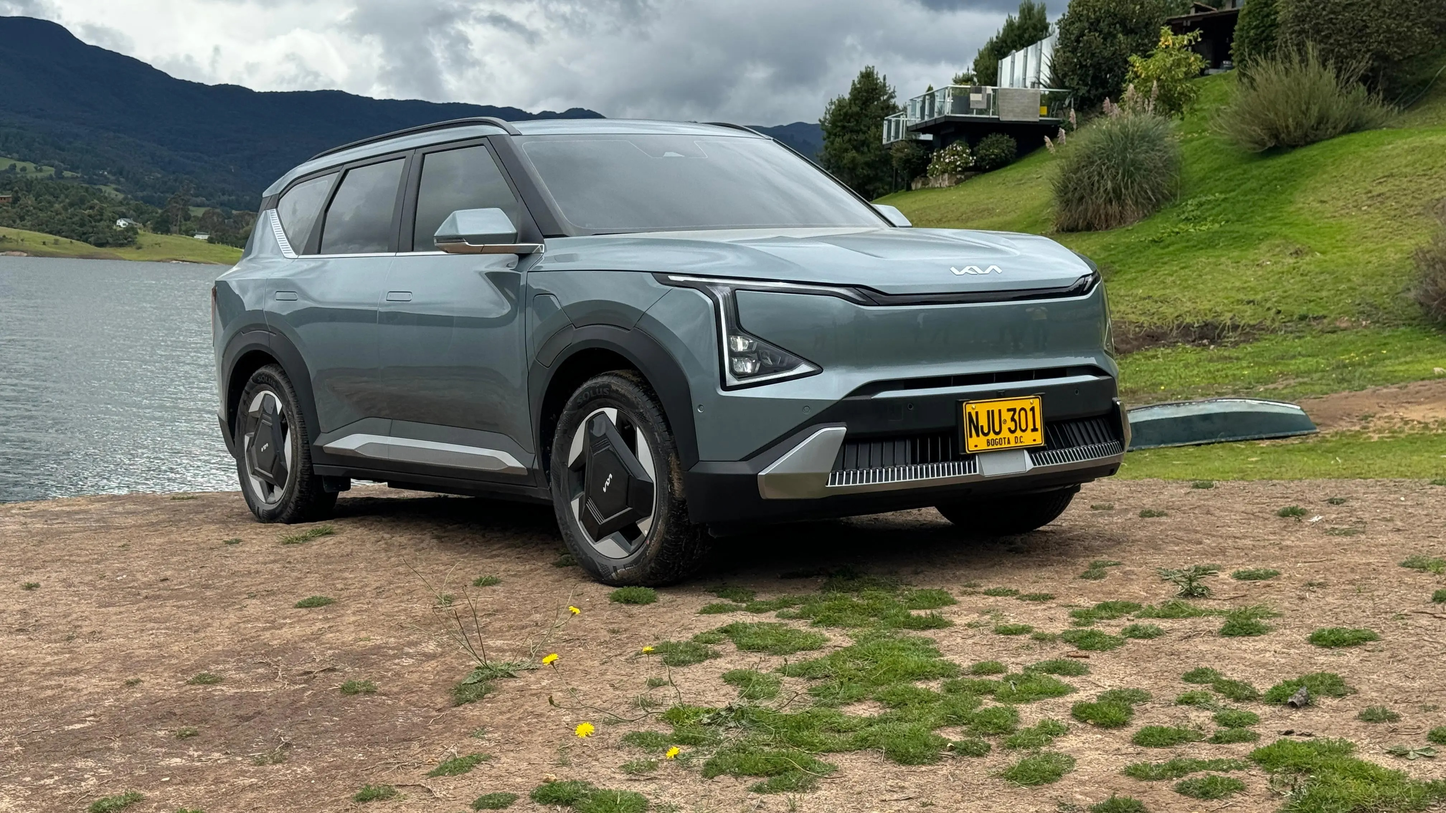car: (170, 89, 1139, 584), (199, 105, 1157, 580)
